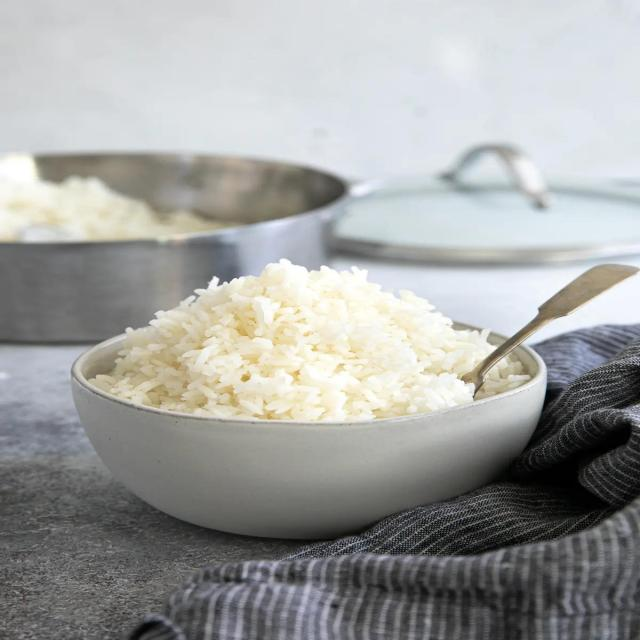rice: (101, 260, 532, 422)
